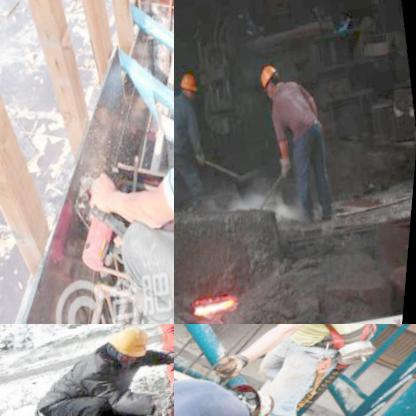helmet: (233, 374, 286, 416), (108, 324, 157, 365), (257, 59, 289, 101), (179, 69, 202, 100)
